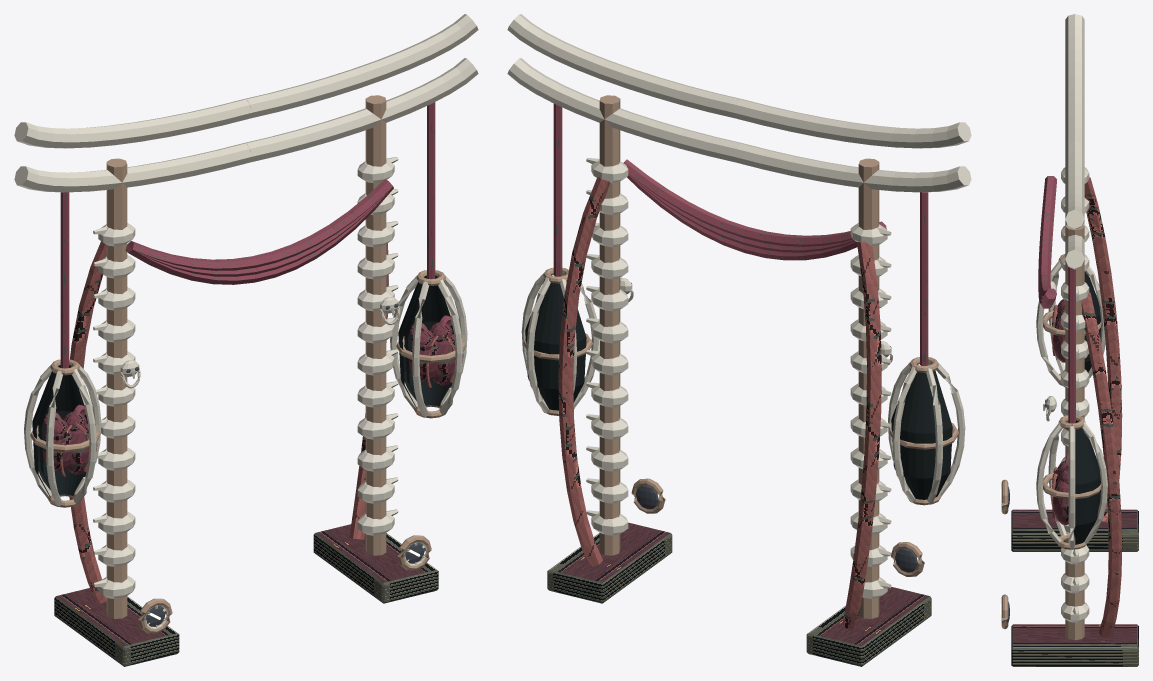
File: heart_bound_gate.glb
The picture shows the model from 3 angles, left to right: view 1: azimuth 30°, elevation 25°; view 2: azimuth 150°, elevation 25°; view 3: azimuth 270°, elevation 25°; orthographic projection. The views are drawn at different scales.
Visible parts, largest first — view 1: heart_bound_gate_warm, heart_bound_gate_petrol, heart_bound_gate_worn, heart_bound_gate_bruised, heart_bound_gate_suture; view 2: heart_bound_gate_warm, heart_bound_gate_petrol, heart_bound_gate_suture, heart_bound_gate_worn, heart_bound_gate_bruised, heart_bound_gate_deep; view 3: heart_bound_gate_warm, heart_bound_gate_petrol, heart_bound_gate_suture, heart_bound_gate_bruised, heart_bound_gate_worn.
Part boxes in pixels (x1=…): heart_bound_gate_warm: x1=14, y1=14, x2=478, y2=628; heart_bound_gate_petrol: x1=32, y1=275, x2=453, y2=666; heart_bound_gate_worn: x1=30, y1=95, x2=465, y2=633; heart_bound_gate_bruised: x1=43, y1=102, x2=463, y2=474; heart_bound_gate_suture: x1=59, y1=241, x2=455, y2=603; heart_bound_gate_warm: x1=507, y1=14, x2=971, y2=598; heart_bound_gate_petrol: x1=525, y1=274, x2=952, y2=666; heart_bound_gate_suture: x1=558, y1=177, x2=881, y2=628; heart_bound_gate_worn: x1=523, y1=95, x2=958, y2=618; heart_bound_gate_bruised: x1=553, y1=104, x2=951, y2=446; heart_bound_gate_deep: x1=630, y1=282, x2=917, y2=572; heart_bound_gate_warm: x1=1002, y1=14, x2=1107, y2=622; heart_bound_gate_petrol: x1=1011, y1=271, x2=1138, y2=666; heart_bound_gate_suture: x1=1052, y1=177, x2=1122, y2=637; heart_bound_gate_bruised: x1=1038, y1=176, x2=1075, y2=524; heart_bound_gate_worn: x1=1001, y1=224, x2=1101, y2=640.
Bounding box in the file's own units: 6.45 × 7.18 × 1.86.
7 materials, 3 textured.
